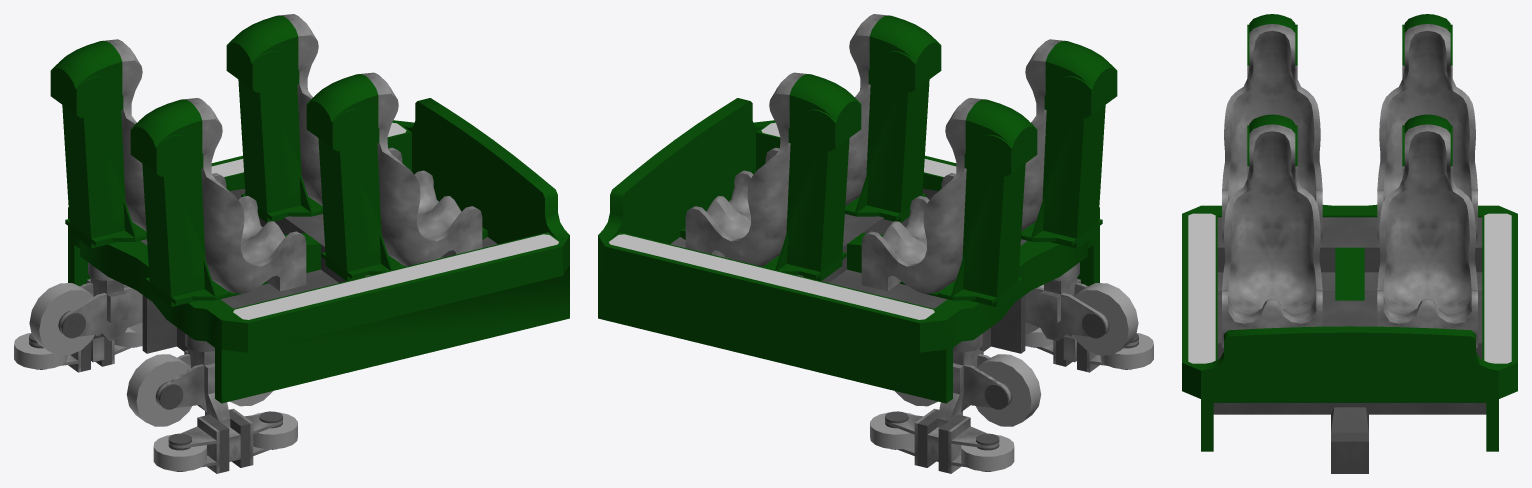
File: car.obj
The picture shows the model from 3 angles, left to right: view 1: azimuth 30°, elevation 25°; view 2: azimuth 150°, elevation 25°; view 3: azimuth 270°, elevation 25°; orthographic projection. The views are drawn at different scales.
Bounding box in the file's own units: 2.39 × 1.74 × 1.6.
